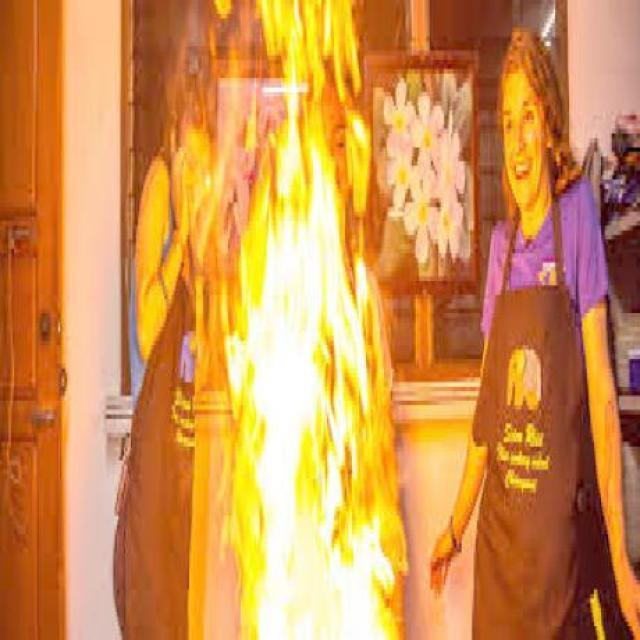Fire: (136, 1, 428, 640)
